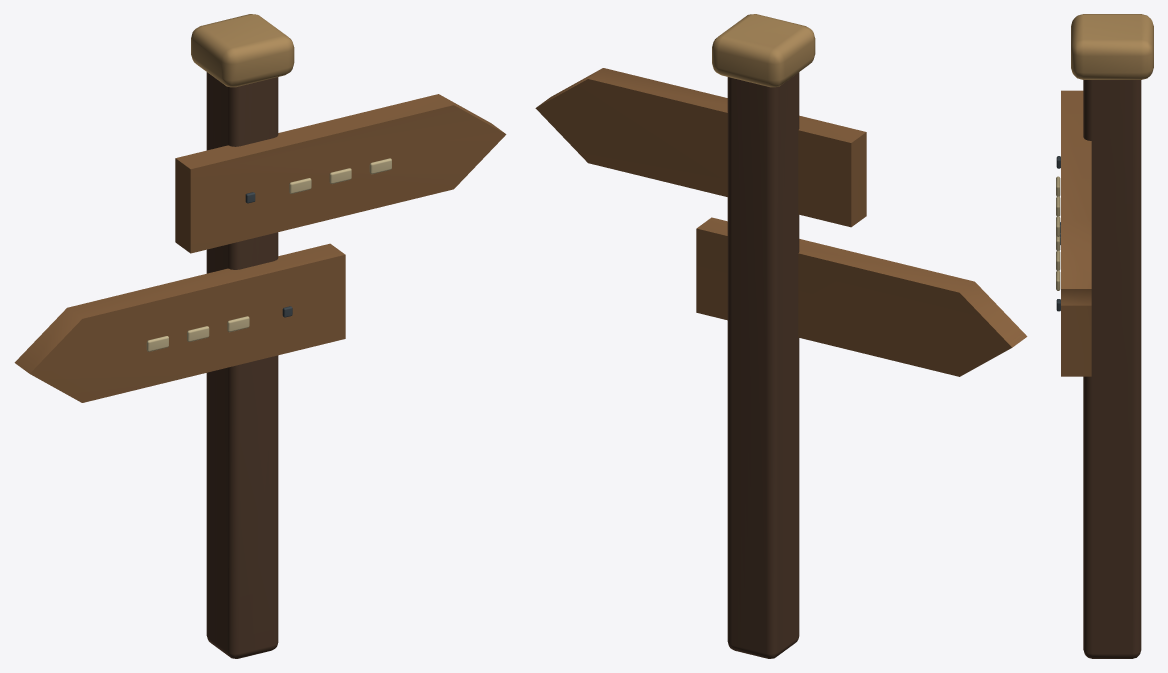
Rendered from fw_wayfinding_sign.hi.glb.
3 views of the same model, side by side, from view 1: azimuth 30°, elevation 25°; view 2: azimuth 150°, elevation 25°; view 3: azimuth 270°, elevation 25° (orthographic).
Visible parts, largest first — view 1: body; view 2: body; view 3: body.
Boxes of the visible parts, x1=… form: body: x1=14, y1=14, x2=506, y2=658; body: x1=535, y1=14, x2=1027, y2=658; body: x1=1056, y1=14, x2=1153, y2=658.
Size of the model in its own units: 1.54 by 1.9 by 0.271.
